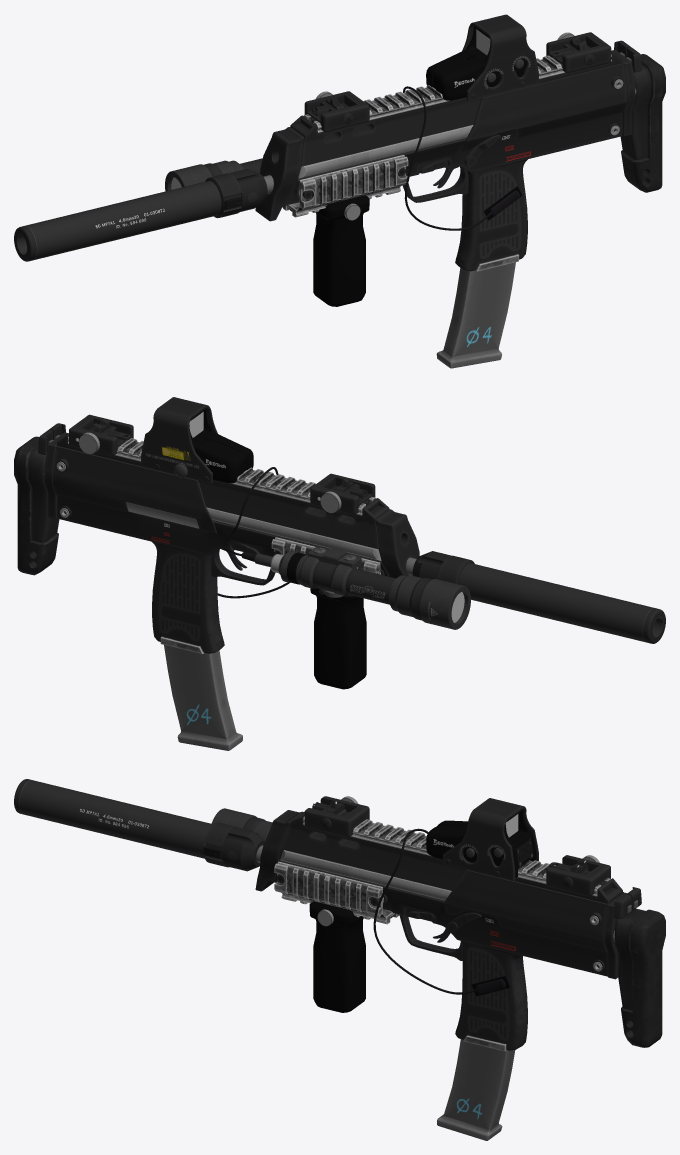
Rendered from MP7_for_Sketchfab.fbx.
The picture shows the model from 3 angles, top to bottom: view 1: azimuth 30°, elevation 25°; view 2: azimuth 150°, elevation 25°; view 3: azimuth 330°, elevation 25°; orthographic projection.
Visible parts, largest first — view 1: polySurface74, polySurface114, polySurface108, MP7_assembly_Road_cross_A7, Receiver2, polySurface65, polySurface82, pPlane16, Picatiny_left, Frontplate3, polySurface147, polySurface117 (+8 smaller); view 2: polySurface74, polySurface114, polySurface72, polySurface84, MP7_assembly_Road_cross_A7, Receiver2, polySurface65, polySurface82, pPlane16, polySurface147, Frontplate3, polySurface117 (+11 smaller); view 3: polySurface74, polySurface114, MP7_assembly_Road_cross_A7, polySurface108, Receiver2, polySurface65, polySurface82, pPlane16, Picatiny_left, polySurface117, polySurface147, Frontplate3 (+7 smaller).
Boxes of the visible parts, x1,y1,x2,y2 form: polySurface74: (288,112,622,271); polySurface114: (14,173,242,261); polySurface108: (462,63,627,151); MP7_assembly_Road_cross_A7: (298,54,665,192); Receiver2: (290,52,622,166); polySurface65: (436,262,515,368); polySurface82: (313,195,369,306); pPlane16: (462,14,539,100); Picatiny_left: (299,155,408,209); Frontplate3: (255,127,304,221); polySurface147: (426,25,526,100); polySurface117: (303,54,611,132); polySurface74: (57,495,388,653); polySurface114: (437,555,665,643); polySurface72: (52,446,216,533); polySurface84: (241,550,470,629); MP7_assembly_Road_cross_A7: (14,436,381,575); Receiver2: (57,434,389,549); polySurface65: (164,645,242,750); polySurface82: (314,595,366,689); pPlane16: (141,397,217,483); polySurface147: (189,408,253,483); Frontplate3: (375,509,419,578); polySurface117: (68,436,376,515); polySurface74: (274,849,607,1050); polySurface114: (14,779,237,867); MP7_assembly_Road_cross_A7: (280,850,665,1047); polySurface108: (443,870,607,952); Receiver2: (280,812,622,904); polySurface65: (437,1039,515,1140); polySurface82: (309,901,365,1012); pPlane16: (443,798,538,880); Picatiny_left: (274,862,382,916); polySurface117: (303,816,610,896); polySurface147: (426,809,536,877); Frontplate3: (255,810,303,891).
Bounding box in the file's own units: 170 × 84.6 × 22.93.
9 materials, 9 textured.
